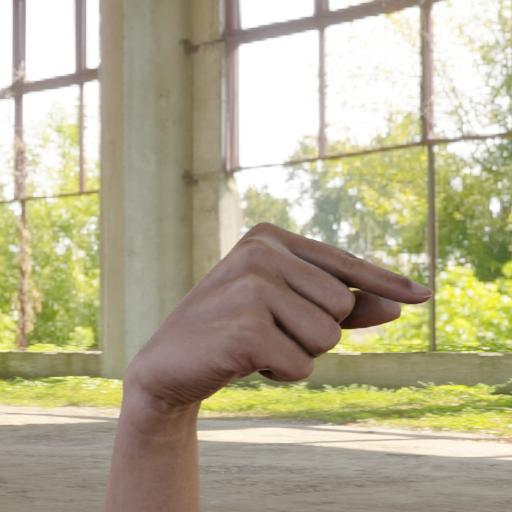G: (120, 218, 435, 410)
